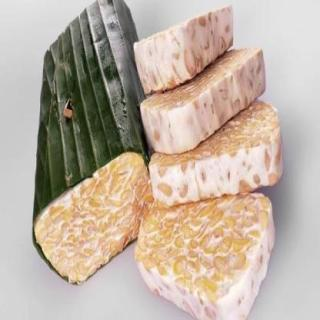Tempe: (30, 1, 286, 319)
